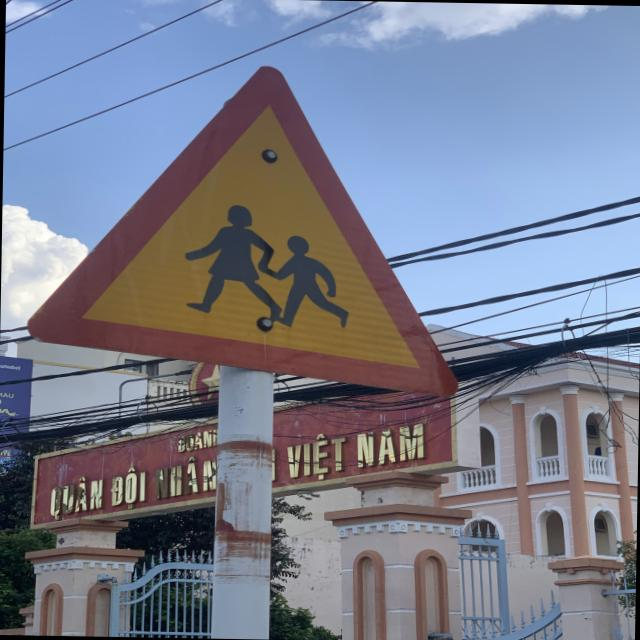Vong_Xuyen: (22, 54, 466, 399)
